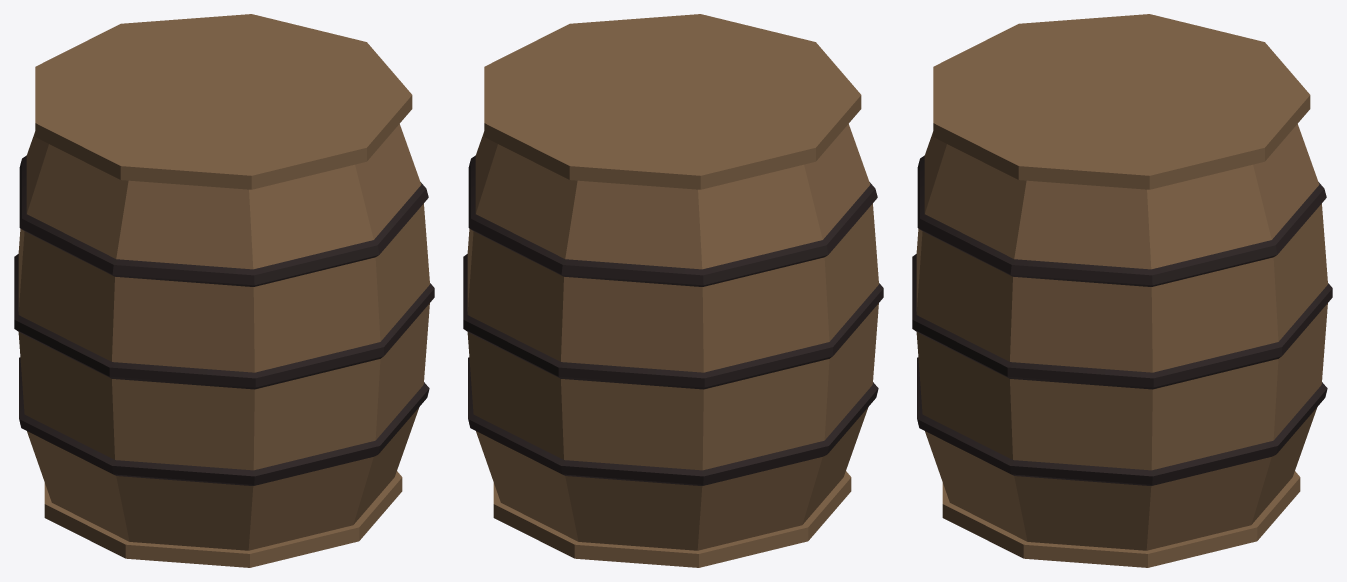
File: Barrel.fbx
3 views of the same model, side by side, from view 1: azimuth 30°, elevation 25°; view 2: azimuth 150°, elevation 25°; view 3: azimuth 270°, elevation 25° (orthographic).
Visible parts, largest first — view 1: Barrel; view 2: Barrel; view 3: Barrel.
Part boxes in pixels (x1,y1,x2,y2): Barrel: (14, 14, 434, 567); Barrel: (463, 14, 883, 567); Barrel: (912, 14, 1332, 567).
Bounding box in the file's own units: 96.85 × 99.16 × 95.38.
